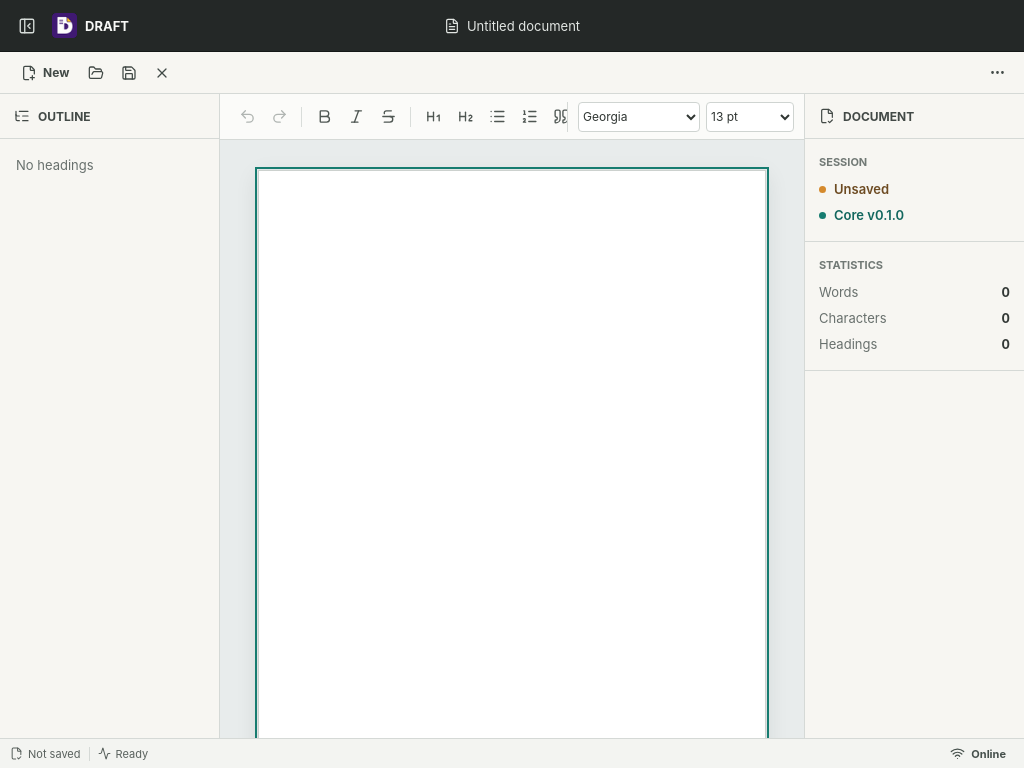
Test: Phase 46 visible workflows › saves, closes, and reopens through Rust-owned lifecycle commands
Click the button named "Save": click(129, 72) [114,58,144,88]
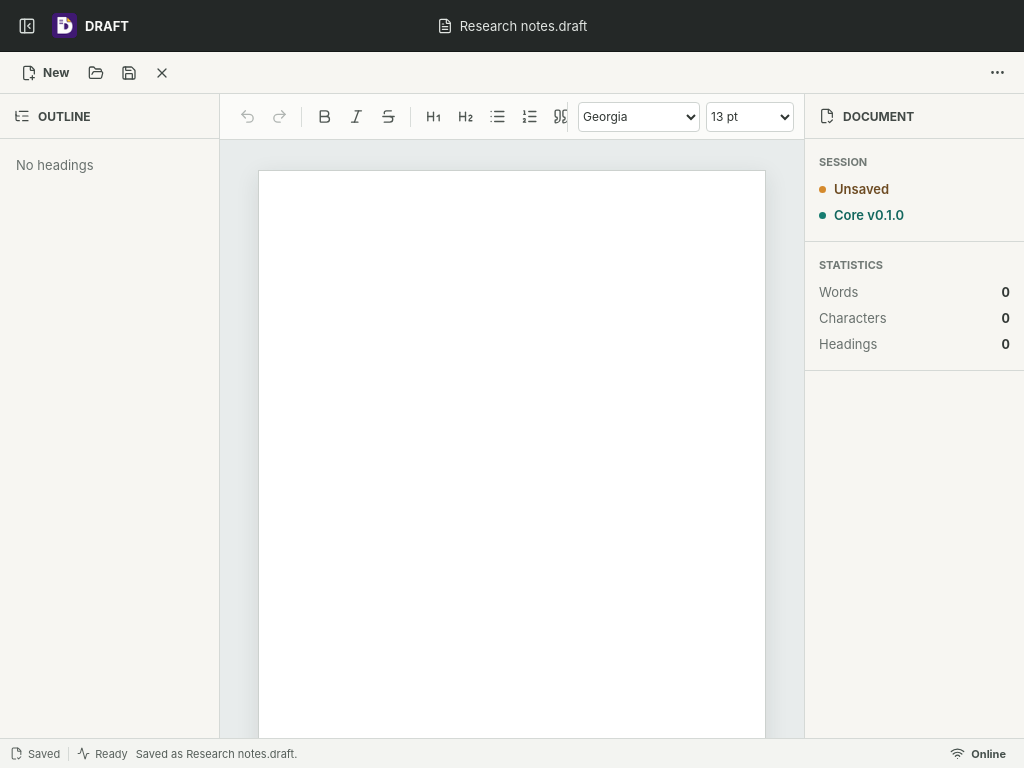
Check: the text "Saved" is shown, box [28,746,60,760]
Check: the text "Saved as Research notes.draft." is shown, box [136,746,297,760]
Check: the text "Research notes.draft" is shown, box [460,18,587,34]
Click the button named "Close": click(162, 72) [147,58,177,88]
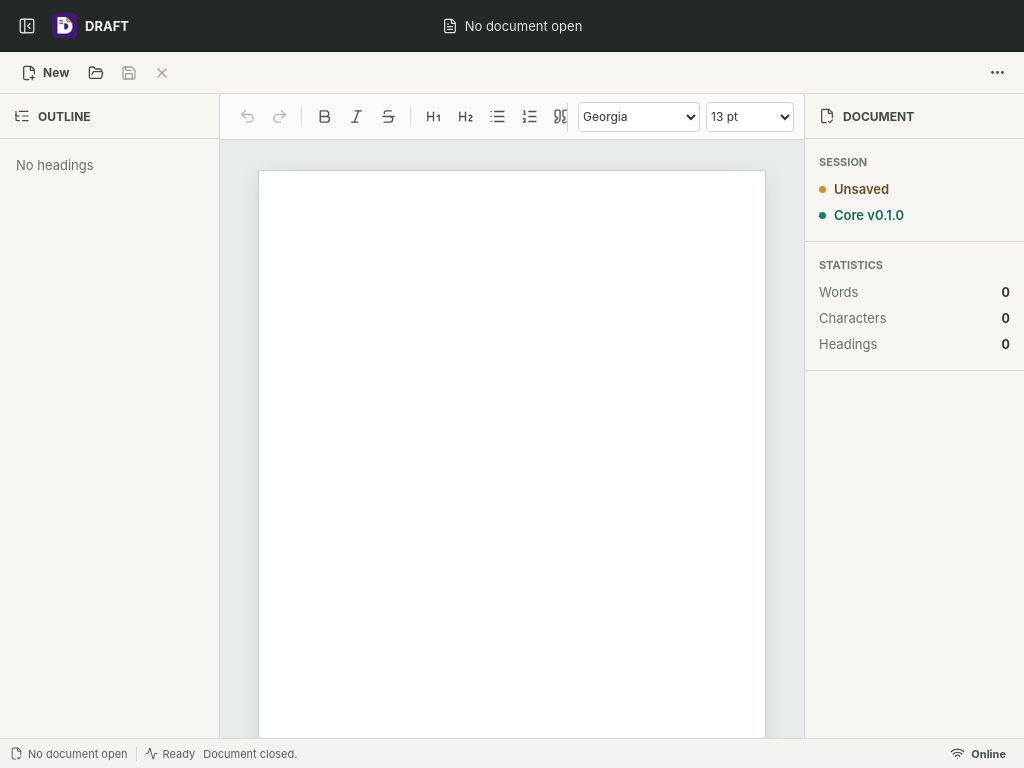
Check: the text "No document open" is shown 2 times, box [465,18,582,34]; [28,746,128,760]
Check: the text "Document closed." is shown, box [203,746,297,760]
Click the button named "Open…": click(96, 72) [81,58,111,88]
(page scrolled)
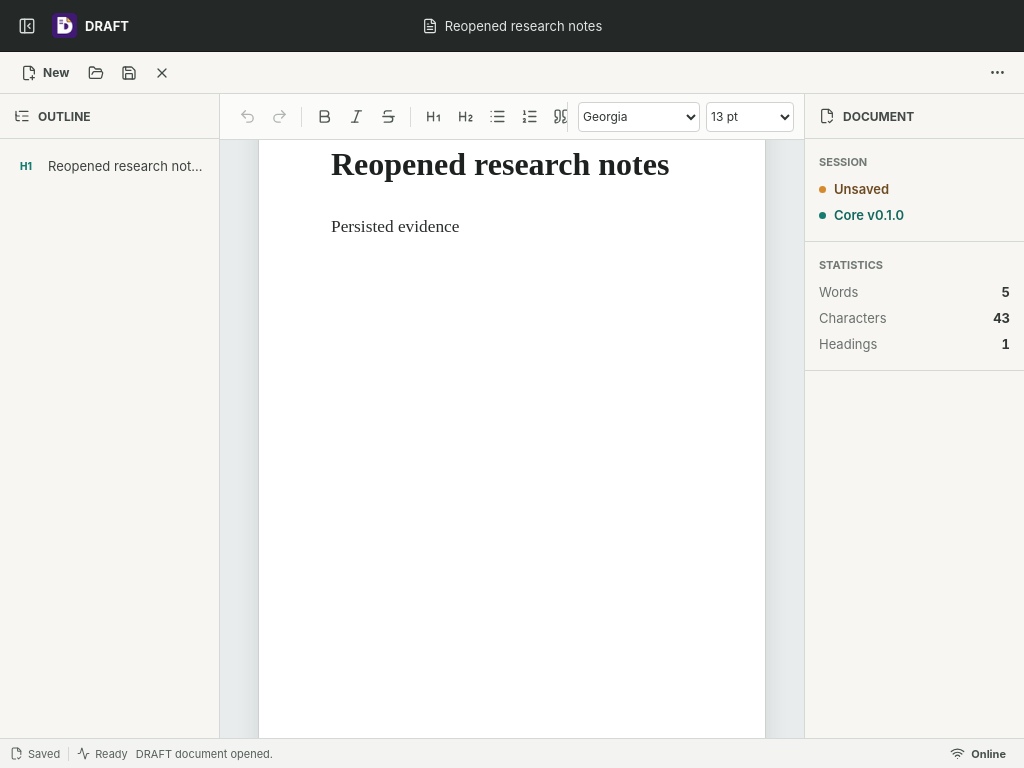
Check: the text "Reopened research notes" is shown 3 times, box [445,18,602,34]; [48,158,203,174]; [331,144,693,184]
Check: the field named "Document editor" shows "Persisted evidence", box [331,146,669,236]
